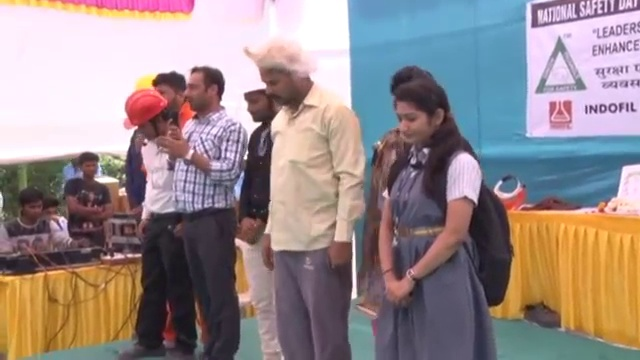helmet: (122, 88, 169, 131), (238, 65, 279, 98)
helmet_off: (259, 43, 313, 115), (394, 84, 448, 142), (181, 66, 226, 114), (150, 72, 185, 122), (18, 188, 45, 226), (39, 196, 64, 226), (78, 156, 100, 182)
helmet_on: (122, 87, 169, 147), (237, 65, 278, 124)
person: (378, 79, 514, 360), (261, 41, 368, 358), (165, 62, 245, 360), (121, 87, 196, 359), (234, 62, 286, 360), (0, 188, 86, 256), (62, 154, 112, 243)
